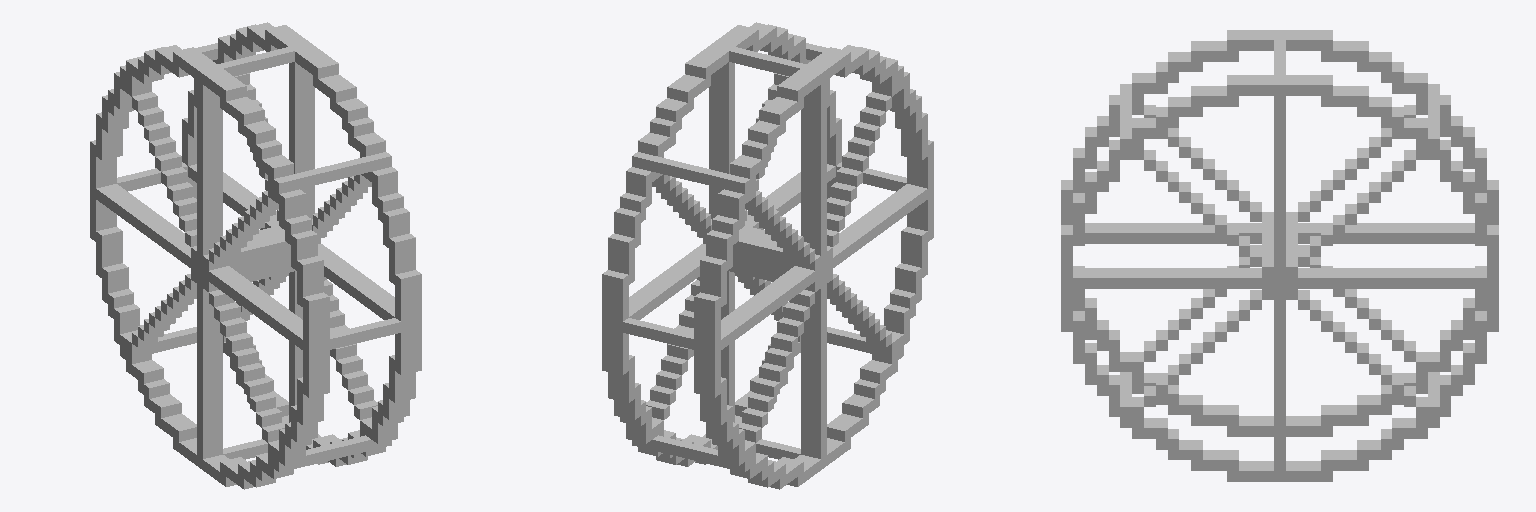
File: wheel.obj
3 renders of one model, left to right at view 1: azimuth 30°, elevation 25°; view 2: azimuth 150°, elevation 25°; view 3: azimuth 270°, elevation 25°, orthographic.
Visible parts, largest first — view 1: object 1; view 2: object 1; view 3: object 1.
Boxes of the visible parts, box(x1,y1,x2,y2) form: object 1: box(90, 22, 421, 489); object 1: box(602, 22, 933, 489); object 1: box(1061, 30, 1498, 481).
Bounding box in the file's own units: 1.1 × 3.7 × 3.7.